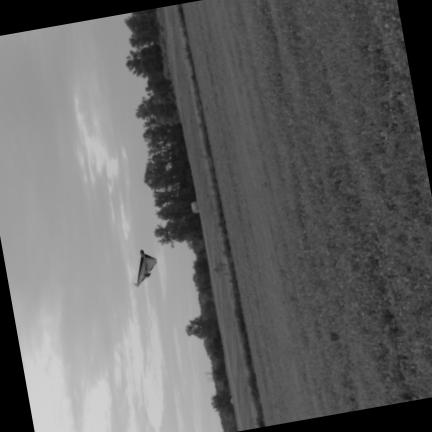Shahed: (135, 249, 156, 285)
